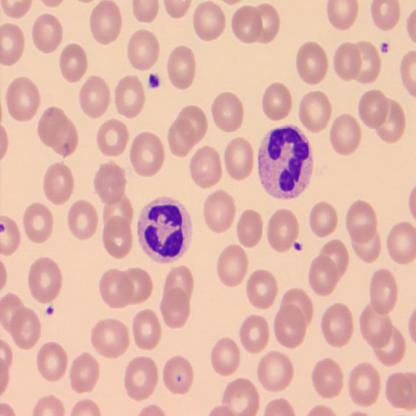Segmented neutrophil: (257, 122, 314, 201), (136, 193, 194, 265)
